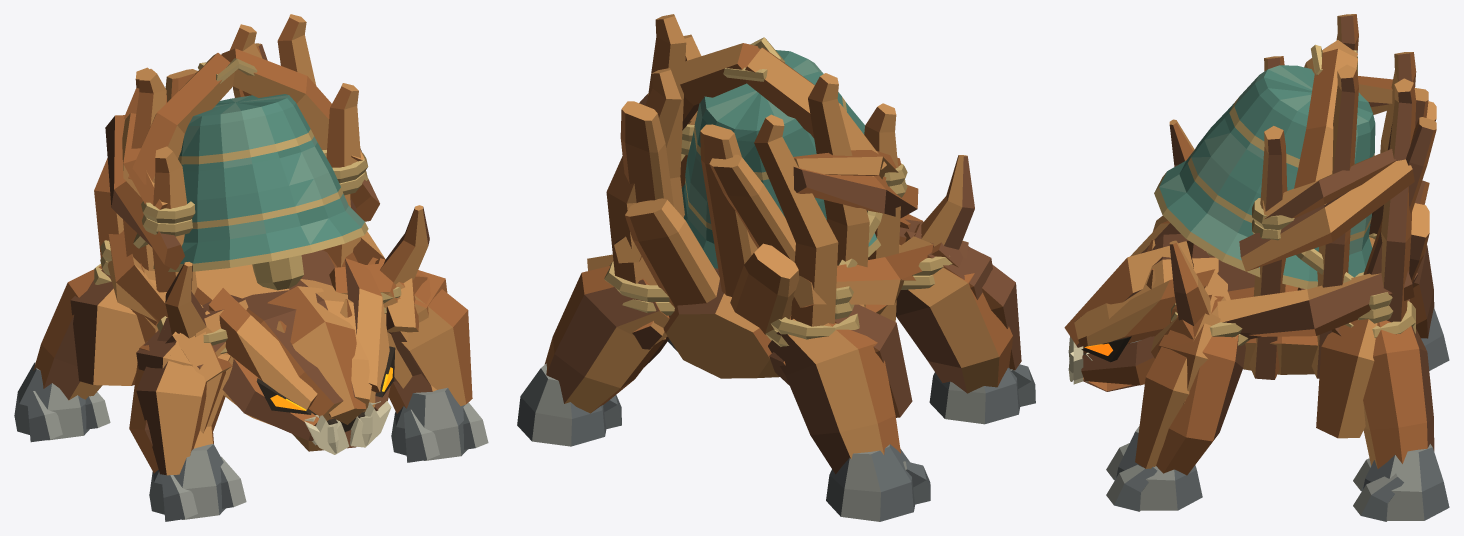
The model's file is bellback-complete-character-pass.glb.
3 renders of one model, left to right at view 1: azimuth 30°, elevation 25°; view 2: azimuth 150°, elevation 25°; view 3: azimuth 270°, elevation 25°, orthographic. The views are drawn at different scales.
Parts seen in each view (by area): view 1: Hollow cast bell, Left fore outer timber shield, Left hind shoulder cap, Pointed central face keel, Right fore outer timber shield, Solid timber cranium, Shaped orbital brow timber, Arch left, Arch right, Left hind timber leg, Shaped orbital brow timber.001, Middle broken side strake -1 (+37 smaller); view 2: Left hind timber leg, Right hind timber leg, Left fore timber leg, Hollow cast bell, Broken ship rib -1 2, Barrel timber hull, Stern fan broad plank 1, Left hind stone foot, Broken ship rib -1 1, Tall stern plank, Right hind stone foot, Lower broken side strake -1 (+20 smaller); view 3: Hollow cast bell, Right hind timber leg, Lower broken side strake 1, Right fore timber leg, Middle broken side strake 1, Right hind shoulder cap, Broken ship rib 1 2, Right fore outer timber shield, Broken ship rib 1 1, Arch right, Right hind stone foot, Broken ship rib 1 0 (+28 smaller).
Boxes of the visible parts, <box> form: Hollow cast bell: <box>153,94,368,271</box>; Left fore outer timber shield: <box>136,318,206,475</box>; Left hind shoulder cap: <box>70,269,144,385</box>; Pointed central face keel: <box>267,286,365,424</box>; Right fore outer timber shield: <box>396,270,472,406</box>; Solid timber cranium: <box>242,279,371,420</box>; Shaped orbital brow timber: <box>208,288,317,410</box>; Arch left: <box>128,53,234,184</box>; Arch right: <box>221,48,331,150</box>; Left hind timber leg: <box>33,265,102,400</box>; Shaped orbital brow timber.001: <box>345,258,389,392</box>; Middle broken side strake -1: <box>105,115,184,270</box>; Left hind timber leg: <box>768,319,900,474</box>; Right hind timber leg: <box>544,265,669,413</box>; Left fore timber leg: <box>896,267,1012,393</box>; Hollow cast bell: <box>682,50,905,268</box>; Broken ship rib -1 2: <box>754,114,838,326</box>; Barrel timber hull: <box>663,268,887,378</box>; Stern fan broad plank 1: <box>625,198,719,307</box>; Left hind stone foot: <box>826,444,915,521</box>; Broken ship rib -1 1: <box>808,73,869,307</box>; Tall stern plank: <box>700,124,757,296</box>; Right hind stone foot: <box>517,363,606,446</box>; Lower broken side strake -1: <box>793,236,933,307</box>; Hollow cast bell: <box>1154,65,1375,289</box>; Right hind timber leg: <box>1363,312,1434,468</box>; Lower broken side strake 1: <box>1217,271,1414,336</box>; Right fore timber leg: <box>1156,334,1245,475</box>; Middle broken side strake 1: <box>1239,159,1414,271</box>; Right hind shoulder cap: <box>1316,319,1377,438</box>; Broken ship rib 1 2: <box>1381,78,1416,322</box>; Right fore outer timber shield: <box>1135,312,1220,468</box>; Broken ship rib 1 1: <box>1311,64,1358,378</box>; Arch right: <box>1294,49,1357,204</box>; Right hind stone foot: <box>1363,444,1449,520</box>; Broken ship rib 1 0: <box>1249,126,1287,379</box>.
Bounding box in the file's own units: 3.71 × 3.72 × 3.25.
